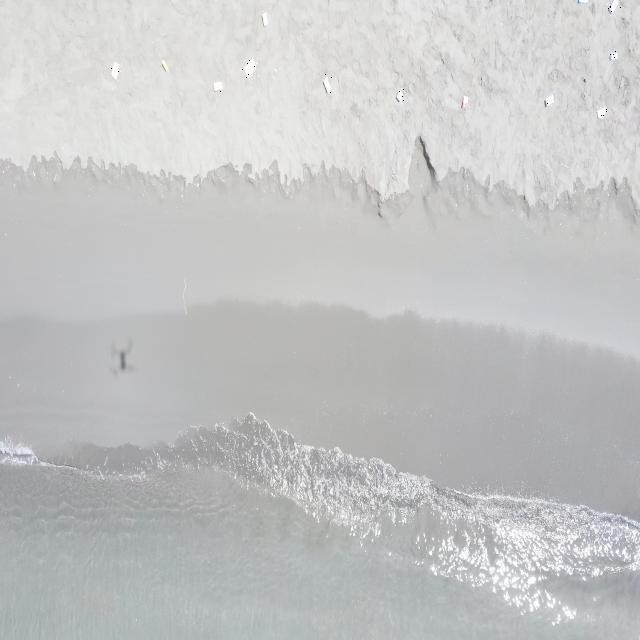Garbage: (111, 339, 134, 373), (241, 57, 256, 76), (181, 277, 187, 315), (111, 62, 119, 79), (212, 80, 223, 91), (607, 0, 617, 12), (596, 106, 606, 118), (323, 75, 330, 92), (395, 88, 403, 101), (460, 95, 467, 108), (544, 94, 552, 105), (261, 12, 267, 26), (160, 59, 167, 71), (608, 49, 615, 59), (576, 0, 587, 3)
